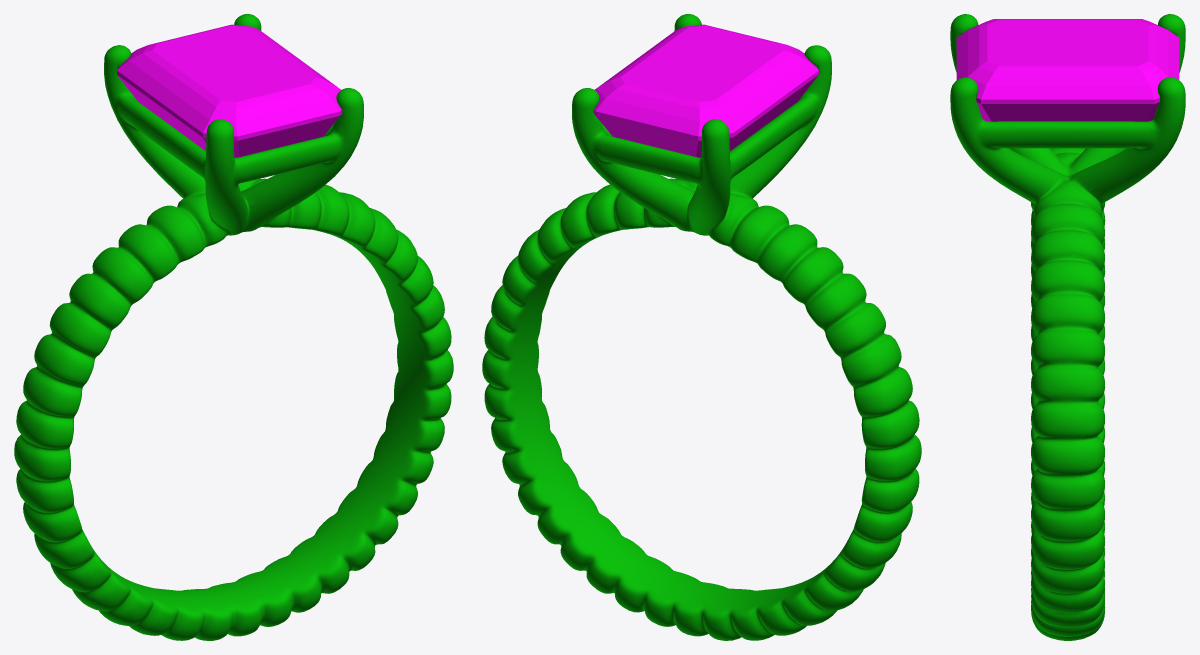
File: BE1D2221_EM_200ct_RENDER.glb
3 views of the same model, side by side, from view 1: azimuth 30°, elevation 25°; view 2: azimuth 150°, elevation 25°; view 3: azimuth 270°, elevation 25° (orthographic).
Parts seen in each view (by area): view 1: Metal 01, CS_Diamond_Emerald; view 2: Metal 01, CS_Diamond_Emerald; view 3: Metal 01, CS_Diamond_Emerald.
Part boxes in pixels (box(x1,y1,x2,y2)): Metal 01: box(14, 14, 453, 640); CS_Diamond_Emerald: box(117, 24, 342, 157); Metal 01: box(482, 14, 921, 640); CS_Diamond_Emerald: box(593, 24, 818, 157); Metal 01: box(950, 14, 1185, 640); CS_Diamond_Emerald: box(956, 19, 1179, 121).
Size of the model in its own units: 20.11 by 25.63 by 9.51.
